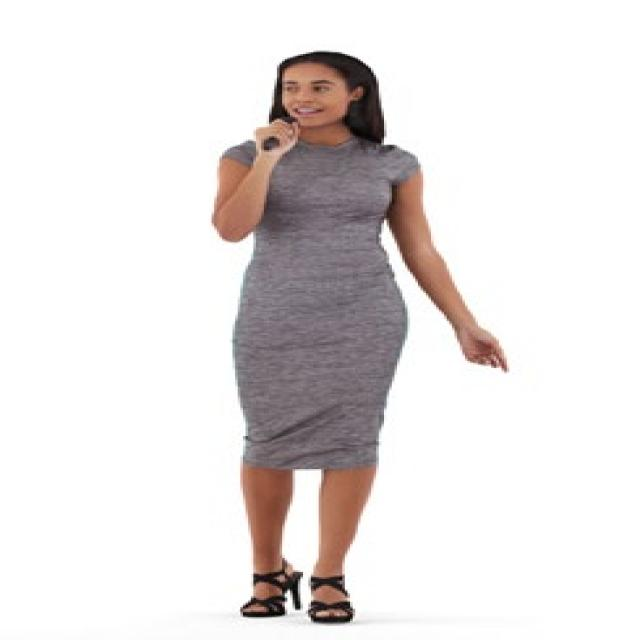standing: (205, 45, 513, 623)
